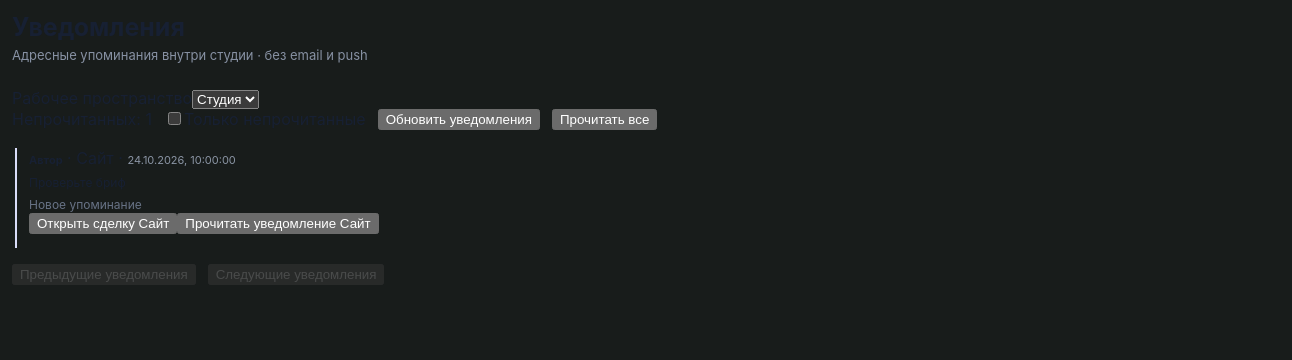
Test case: keeps a failed read visible and permits retry without hiding the notification
This screenshot has width=1292, height=360.
Check: the text "Проверьте бриф" is shown, box [29, 175, 126, 190]
Click the button "Прочитать уведомление Сайт": click(278, 224) [177, 213, 379, 234]
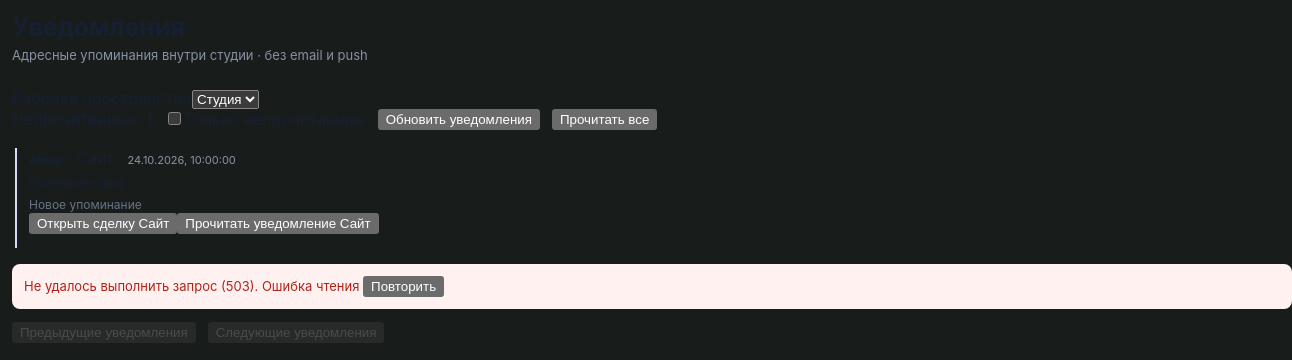
Check: the text "Проверьте бриф" is shown, box [29, 175, 126, 190]
Check: the message "Не удалось выполнить запрос (503). Ошибка чтения Повторить" is shown, box [12, 264, 1291, 309]
Click the button "Прочитать уведомление Сайт": click(278, 224) [177, 213, 379, 234]
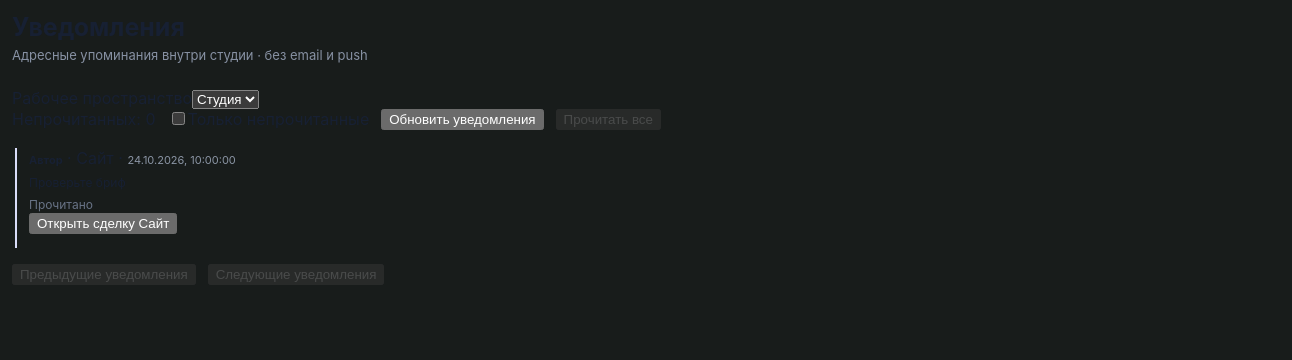
Check: the text "Прочитано" is shown, box [29, 197, 93, 212]
